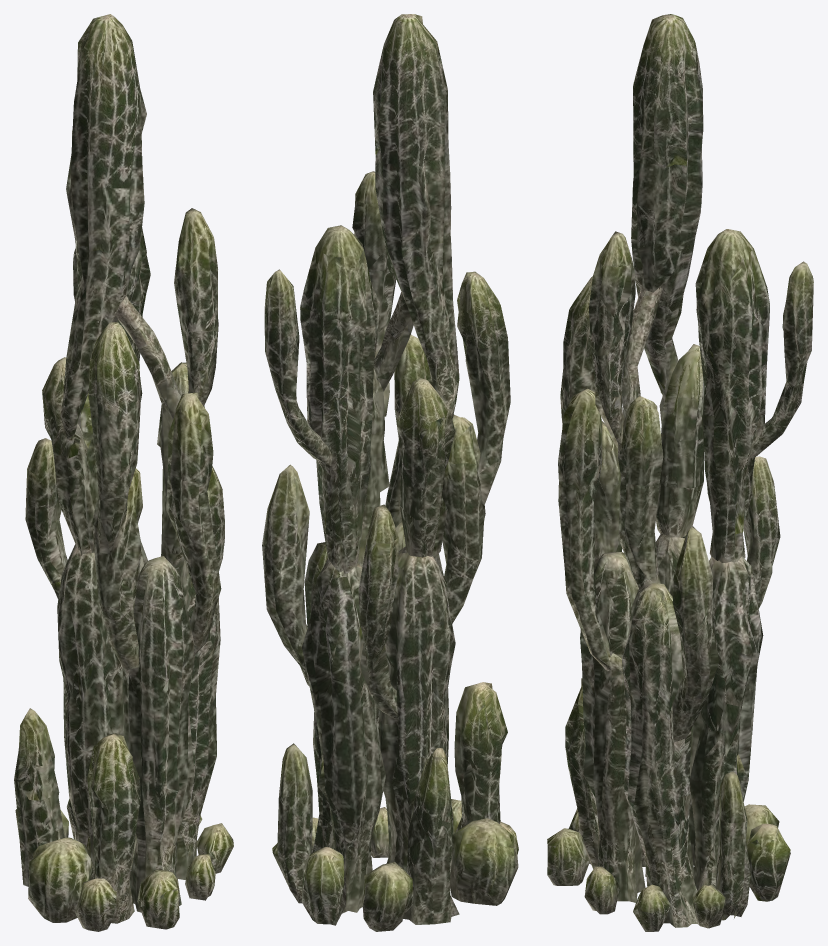
Rendered from cactus.glb.
3 views of the same model, side by side, from view 1: azimuth 30°, elevation 25°; view 2: azimuth 150°, elevation 25°; view 3: azimuth 270°, elevation 25° (orthographic).
Visible parts, largest first — view 1: cactus; view 2: cactus; view 3: cactus.
Boxes of the visible parts, x1=… form: cactus: x1=14, y1=14, x2=233, y2=931; cactus: x1=262, y1=14, x2=518, y2=931; cactus: x1=547, y1=14, x2=813, y2=931.
Bounding box in the file's own units: 0.2616 × 1 × 0.2785.
1 material, 1 textured.
